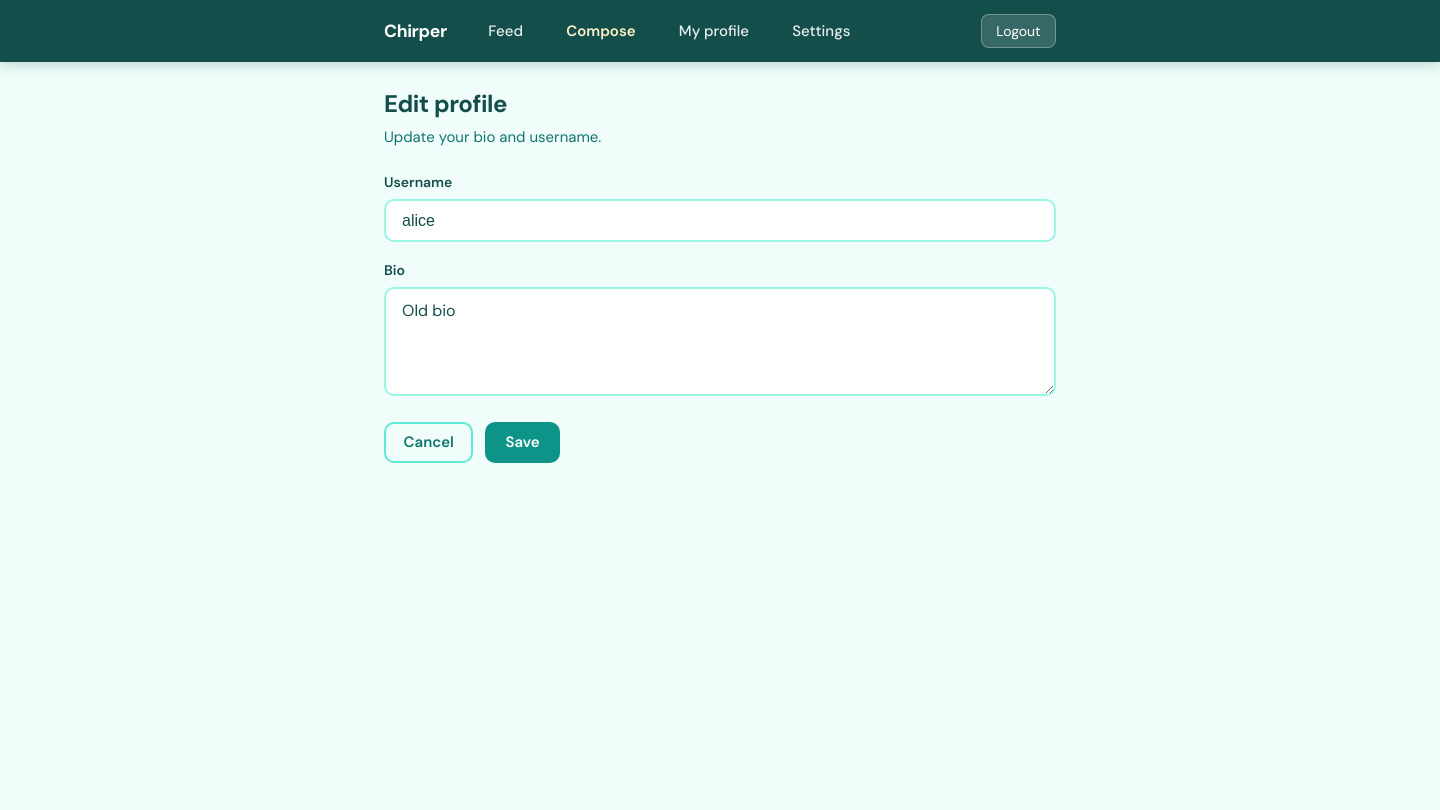
Test: ProfileEdit › Cancel navigates back to profile
This screenshot has width=1440, height=810.
Click the button "Cancel".
click(429, 442)  # box left=384, top=422, right=474, bottom=463
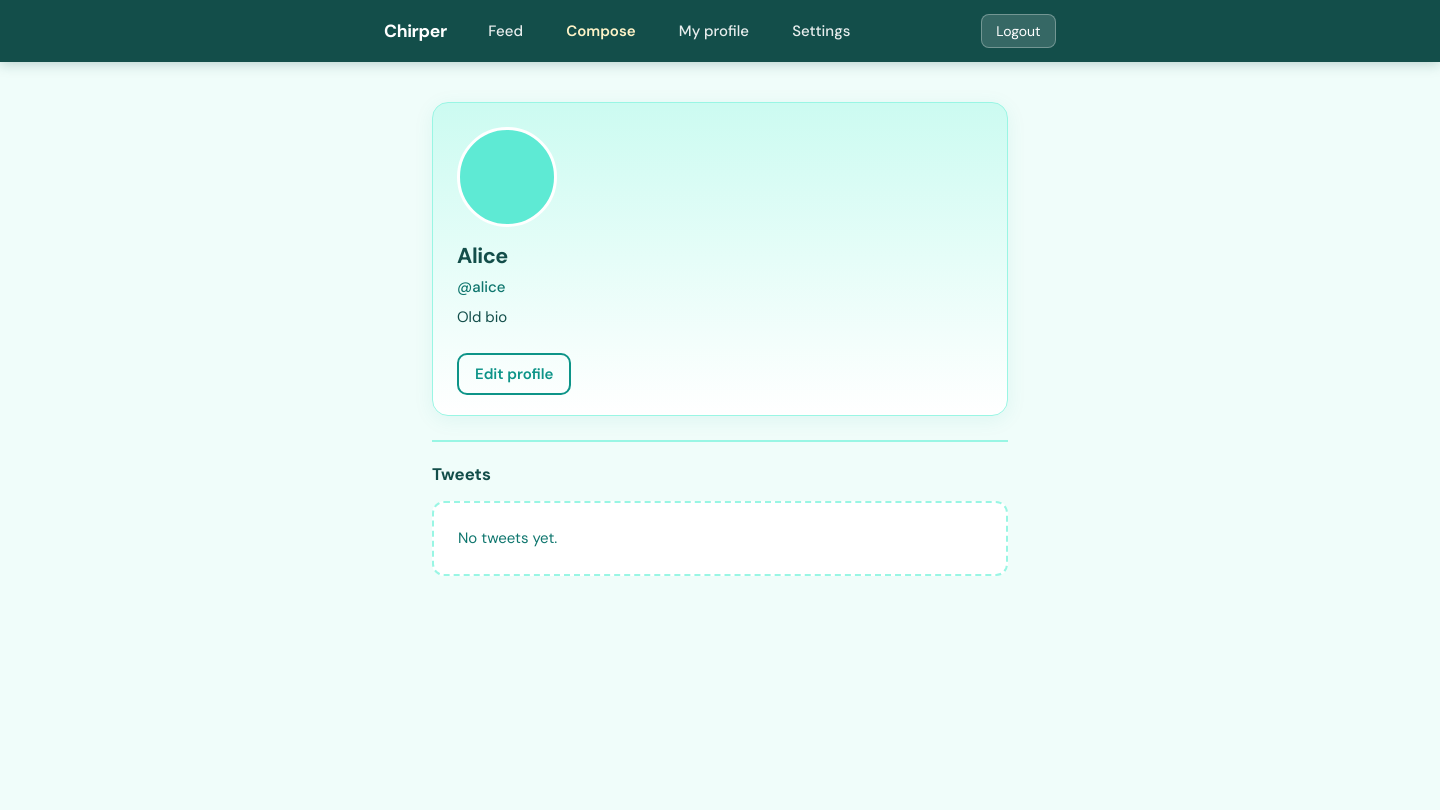
Result: the heading "Alice" is shown at left=457, top=242, right=508, bottom=270
